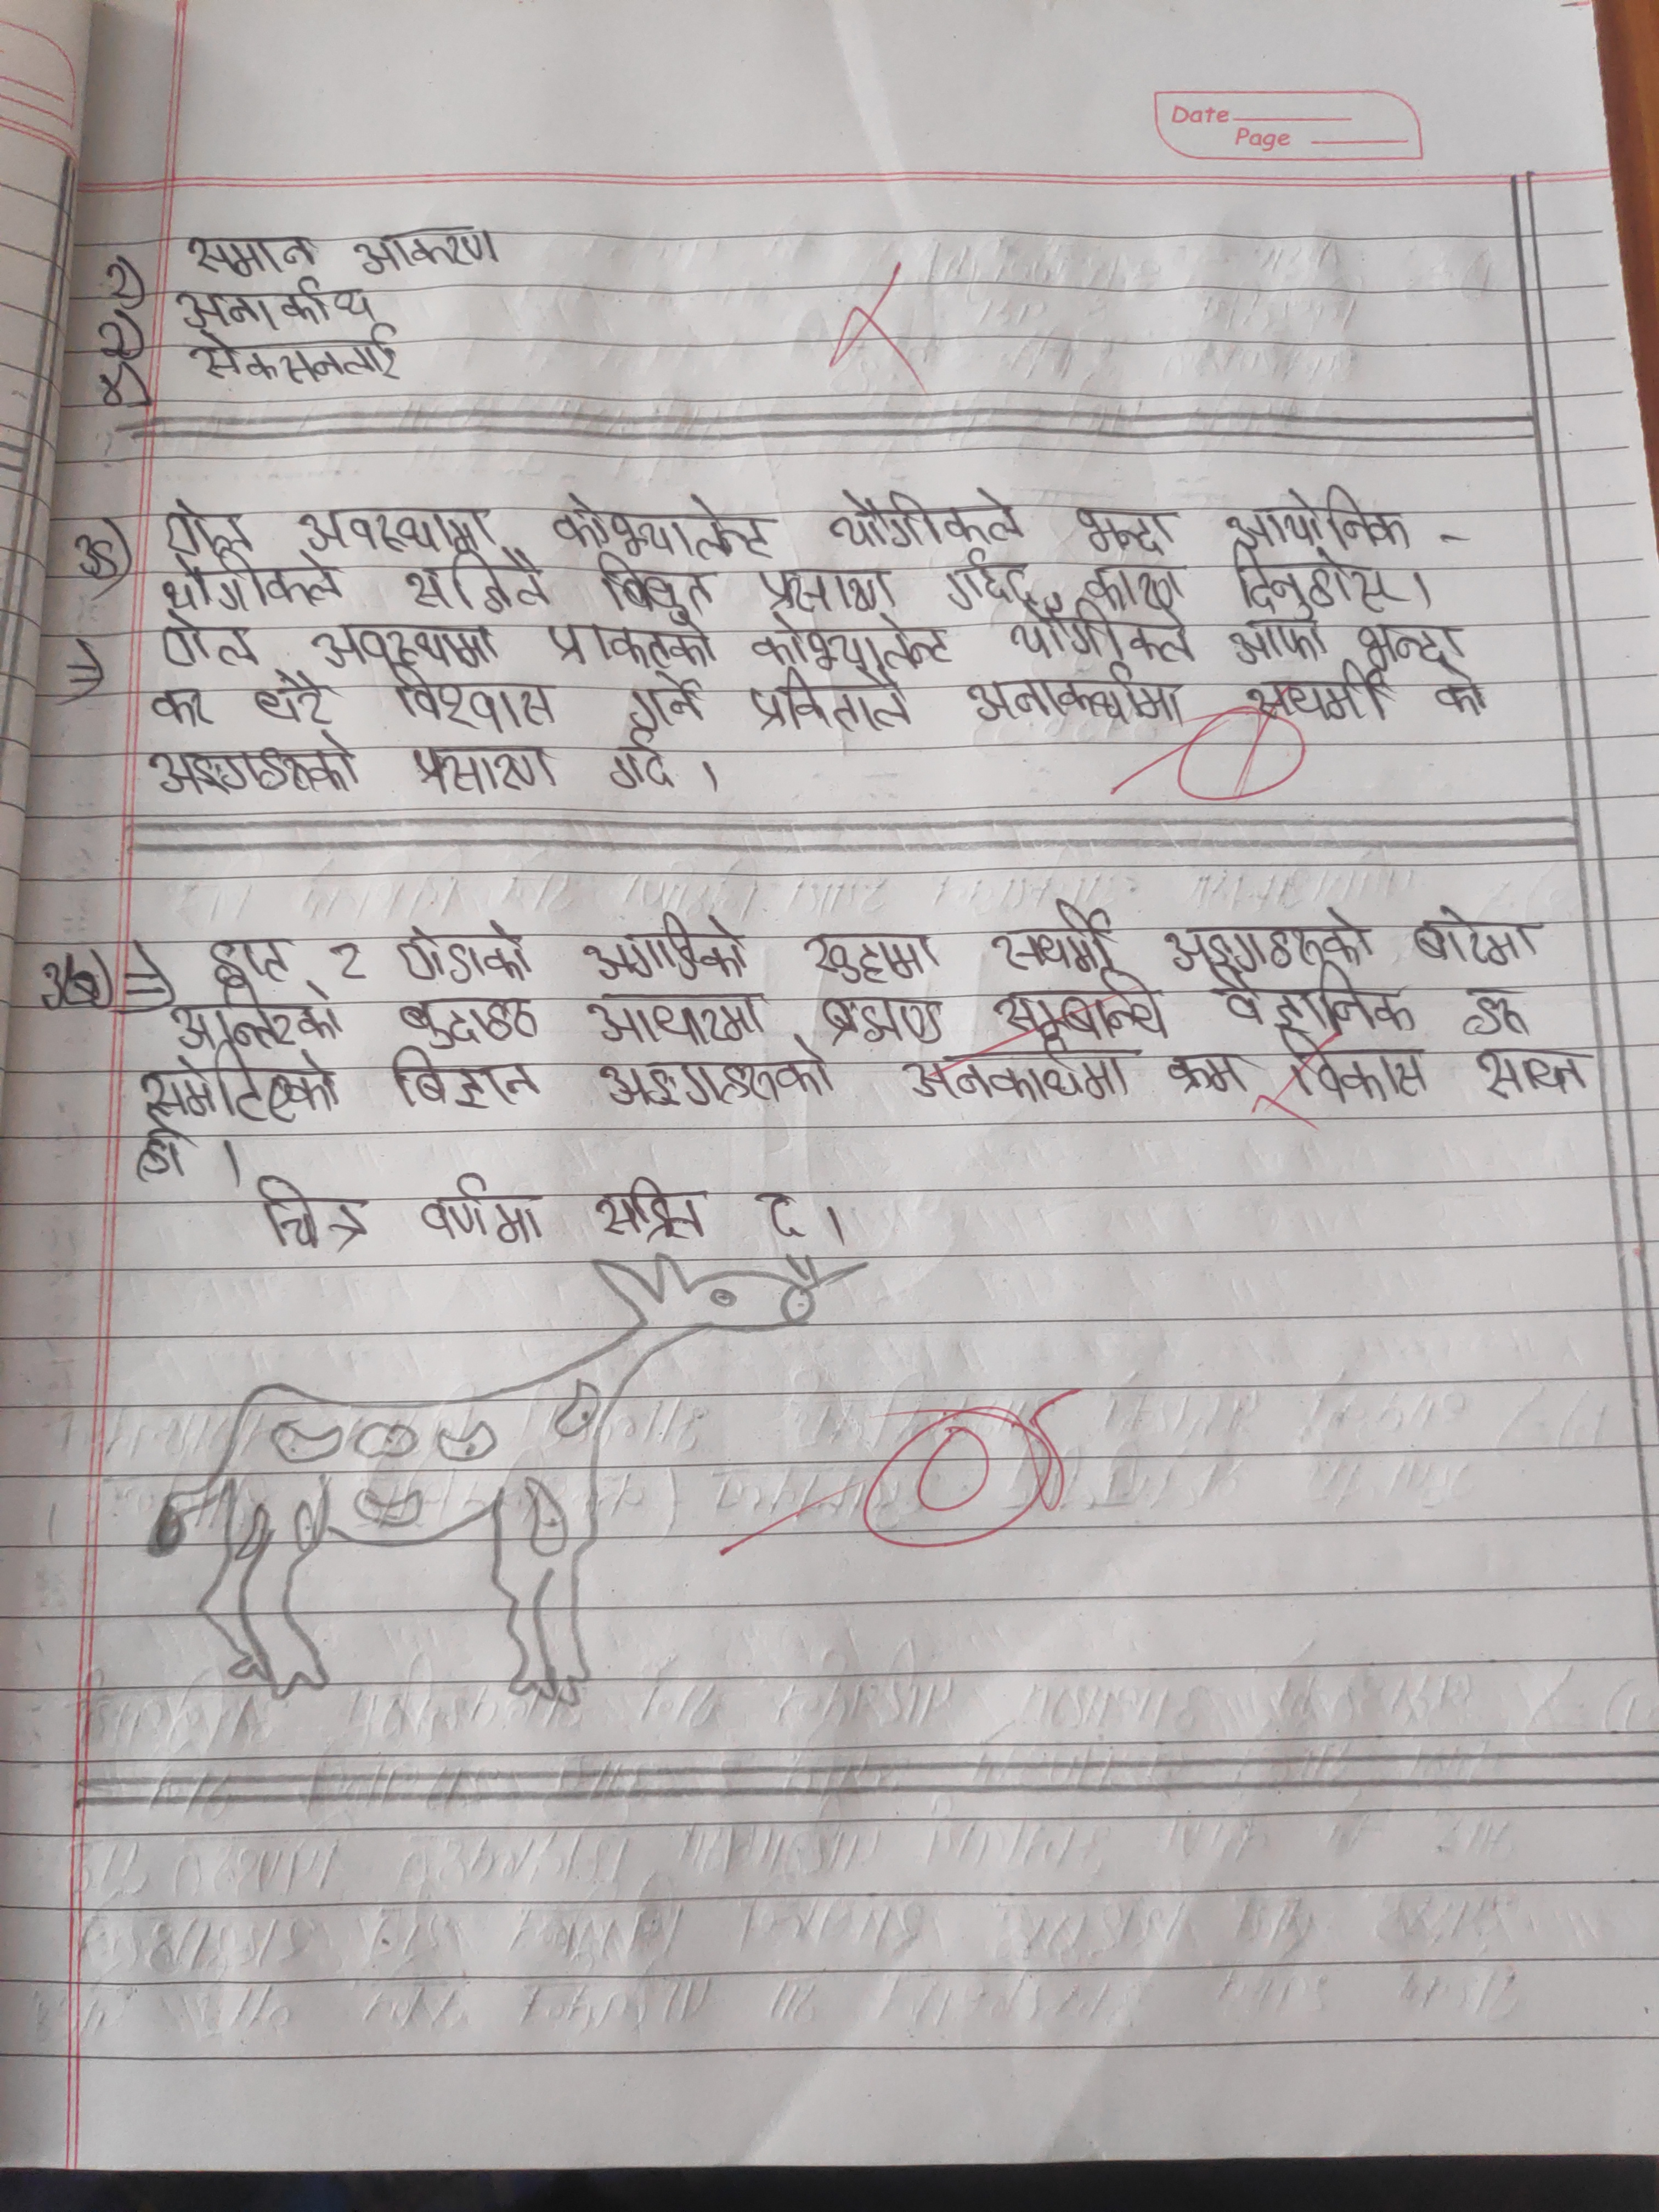text: (592, 1040, 852, 1116), (132, 1043, 342, 1123), (1211, 960, 1424, 1038), (547, 491, 779, 561), (899, 1040, 1131, 1108), (1161, 902, 1377, 974), (962, 664, 1188, 732), (1225, 540, 1412, 620), (183, 324, 408, 390), (150, 732, 368, 798), (749, 610, 958, 672), (389, 658, 559, 733), (823, 489, 1025, 552), (1004, 603, 1194, 669), (1274, 1028, 1436, 1103), (1223, 484, 1417, 547), (990, 970, 1168, 1036), (992, 897, 1134, 979), (746, 671, 917, 738), (582, 916, 748, 986), (247, 1167, 375, 1258), (167, 984, 350, 1047), (580, 988, 774, 1047), (385, 1040, 547, 1109), (291, 498, 498, 552), (159, 554, 347, 613), (174, 277, 380, 327), (416, 1167, 549, 1245), (308, 618, 500, 672), (1244, 660, 1399, 726), (397, 916, 538, 988), (1408, 900, 1546, 974), (399, 545, 549, 611), (397, 986, 547, 1052), (592, 552, 721, 627), (545, 615, 716, 671), (408, 738, 561, 799), (350, 223, 507, 280), (746, 561, 897, 620), (591, 1179, 716, 1245), (798, 930, 945, 984), (816, 993, 955, 1047), (1469, 1049, 1593, 1108), (1349, 615, 1473, 672), (943, 549, 1044, 615), (181, 230, 321, 275), (1080, 557, 1192, 613), (157, 611, 265, 669), (1223, 611, 1331, 669), (1075, 500, 1180, 559), (157, 502, 258, 552), (204, 932, 301, 984), (620, 671, 706, 730), (251, 671, 340, 726), (603, 730, 680, 794), (1453, 982, 1534, 1043), (1422, 662, 1493, 718), (1166, 1050, 1248, 1097), (755, 1186, 814, 1249), (129, 1129, 193, 1184), (148, 685, 211, 735), (331, 937, 373, 989)
